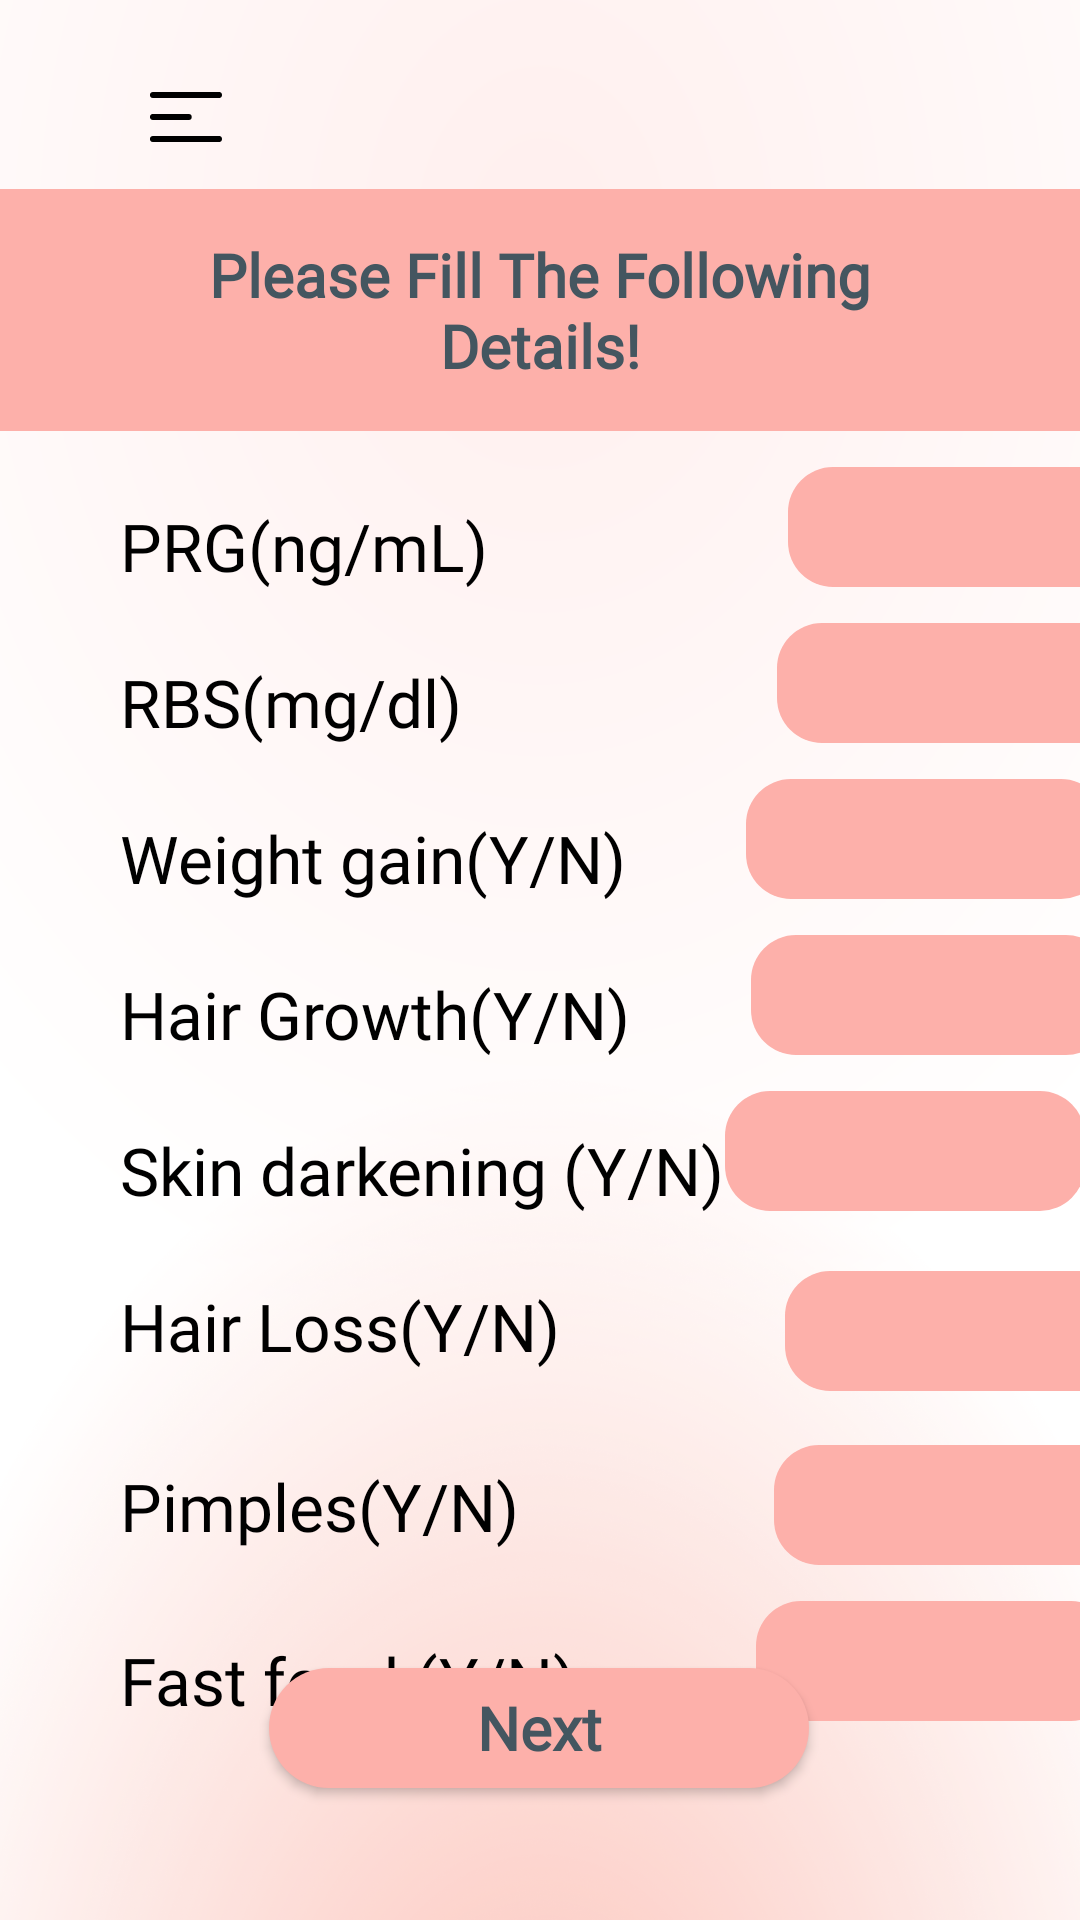

Icon click points for this 1080*1920 phone screenshot, format [x,y]:
hamburger: [186,117]
